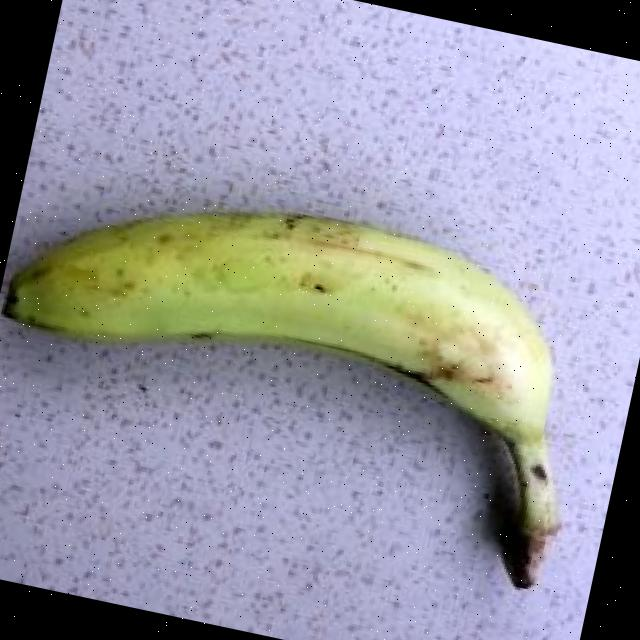banana: (1, 209, 559, 586)
